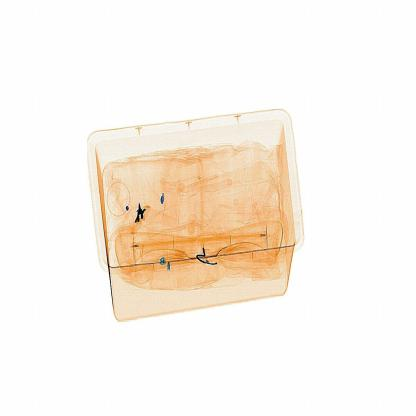gun: (125, 191, 157, 238)
